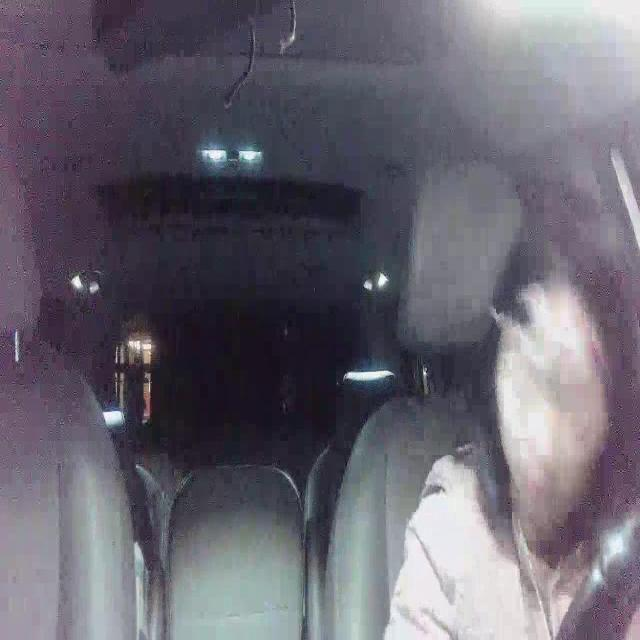Inattentive: (492, 180, 640, 524)
